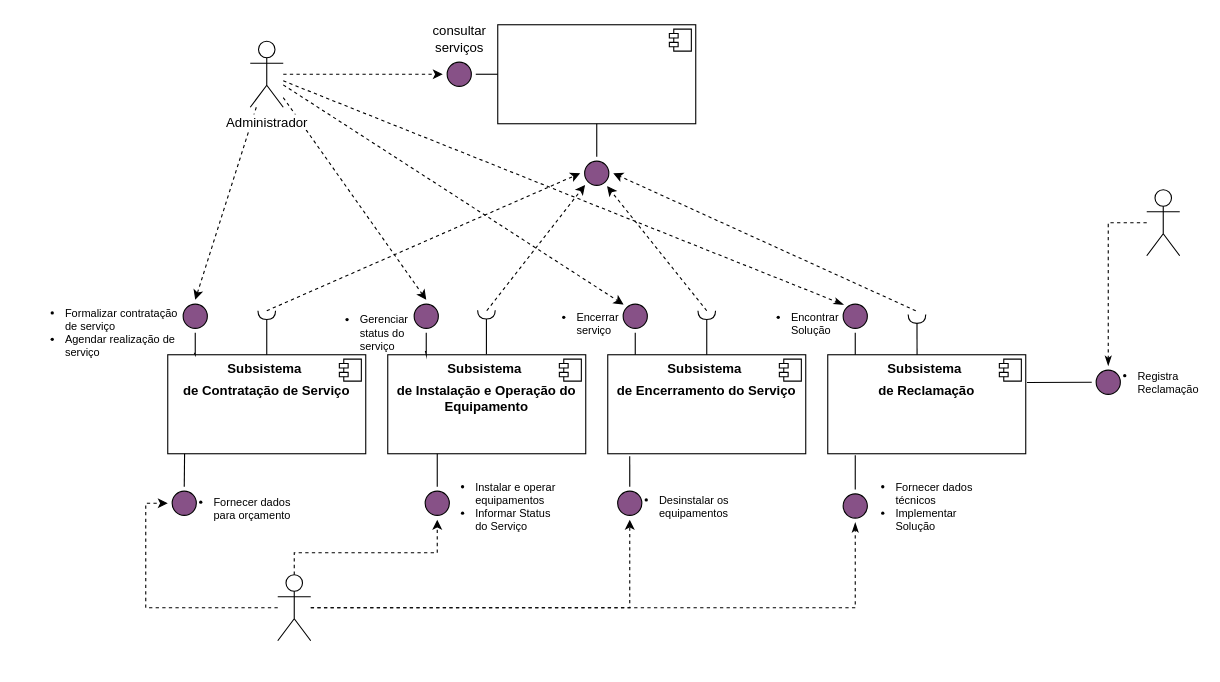
This 1220x682 diagram has some shape labels left out. The shapes that lost their labels are listed below. From the top down, each one's centre as x and y in pixels, then its label:
At pixel 596 74: "Subsistema de Administração".
At pixel 1163 222: "Atendente".
At pixel 294 607: "Técnico".
